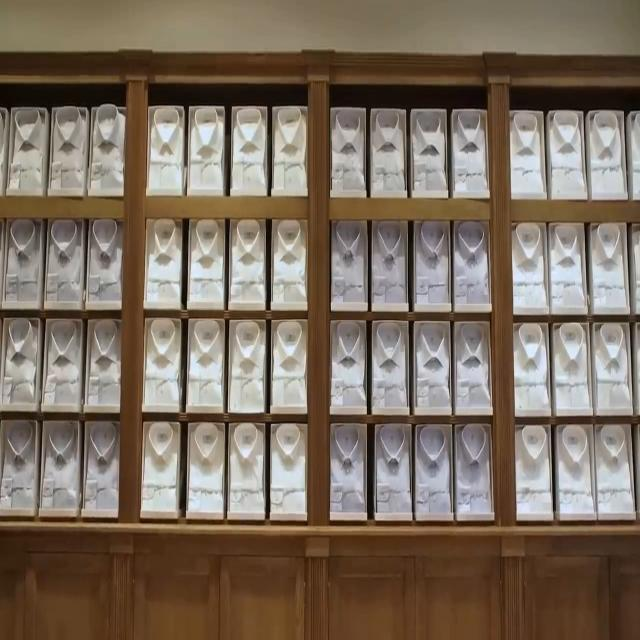Shirt: (143, 420, 181, 510), (89, 105, 126, 193), (189, 420, 225, 510), (230, 420, 266, 510), (84, 420, 120, 508), (557, 425, 593, 513), (596, 427, 634, 510), (1, 318, 38, 403), (455, 422, 489, 514), (10, 110, 48, 192), (45, 220, 82, 304), (516, 425, 552, 511), (415, 422, 449, 513), (5, 219, 41, 304), (594, 324, 630, 409), (1, 420, 35, 510), (231, 320, 265, 409), (272, 422, 306, 511), (330, 422, 364, 510), (190, 220, 226, 303), (230, 220, 266, 303), (44, 320, 80, 402), (375, 425, 410, 509), (549, 111, 583, 197), (148, 220, 182, 306), (147, 317, 181, 403), (190, 319, 224, 405), (273, 320, 307, 406), (45, 420, 79, 506), (331, 320, 365, 405), (552, 323, 586, 408), (591, 225, 625, 309), (414, 323, 448, 407), (514, 324, 548, 408), (415, 219, 448, 305), (274, 109, 308, 192), (331, 110, 365, 193), (411, 112, 445, 195), (452, 111, 486, 194), (273, 221, 307, 304), (372, 221, 406, 304), (148, 109, 182, 191), (189, 109, 223, 191), (591, 113, 625, 195), (331, 220, 365, 302), (453, 222, 487, 304), (550, 225, 584, 307), (372, 322, 406, 404), (232, 109, 266, 190), (512, 225, 546, 306), (455, 324, 488, 407), (51, 110, 86, 188), (88, 322, 120, 406), (508, 113, 541, 194), (89, 219, 121, 301), (372, 113, 404, 192), (628, 224, 640, 312), (628, 113, 640, 195)
